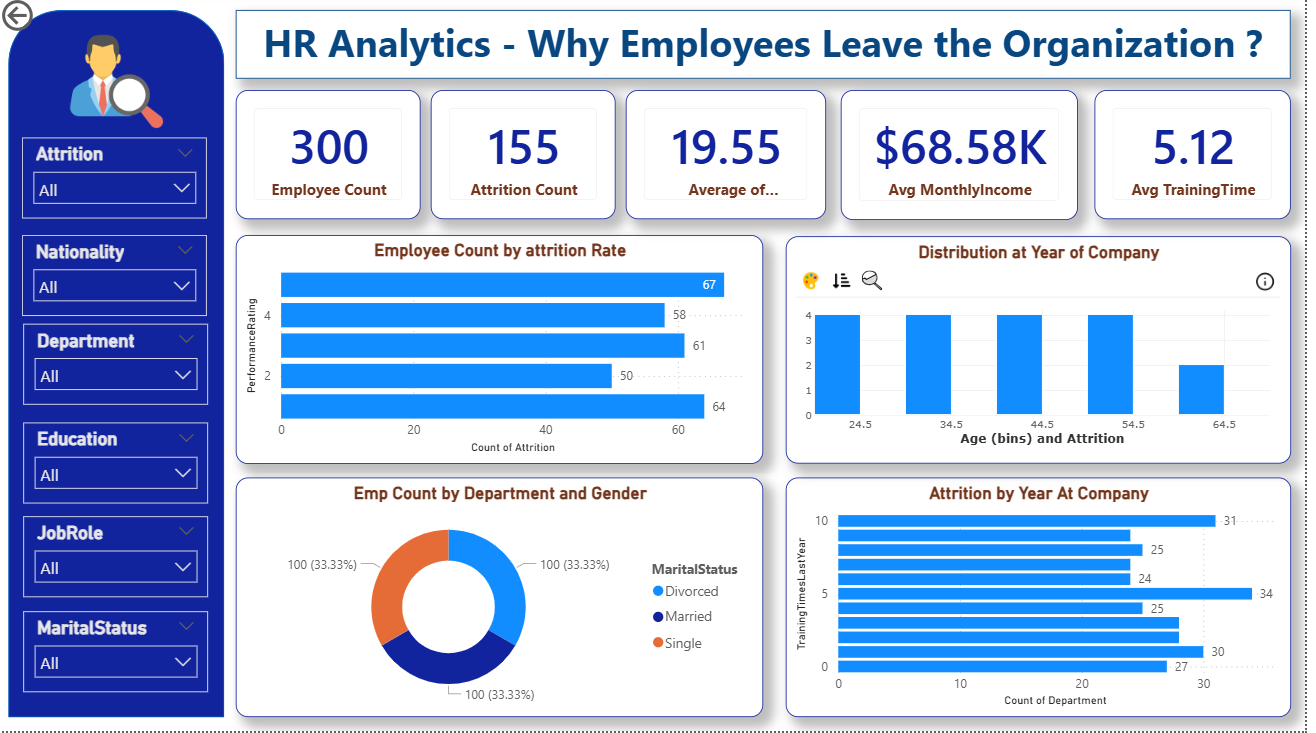

The dashboard page shown, as its layout file describes it:
{"tool":"powerbi","page":{"name":"Page2","canvas":[1280,720],"ordinal":1},"visuals":[{"type":"slicer","fields":{"Values":["hr_employee_data_with_nationality.Attrition"]},"box":[24.7,140,181.1,79.6],"z":0},{"type":"textbox","box":[10,0,280,280],"z":1000},{"type":"textbox","box":[233.6,14.7,1032.1,67.3],"z":2000},{"type":"shape","box":[11,14.7,211.6,692.1],"z":3000},{"type":"image","box":[67.3,29.3,99,110.1],"z":4000},{"type":"cardVisual","fields":{"Data":["CountNonNull(hr_employee_data_with_nationality.EmployeeID)"]},"box":[233.3,93.3,181.1,126.2],"z":5000},{"type":"clusteredBarChart","title":"Employee Count by attrition Rate","fields":{"Category":["hr_employee_data_with_nationality.PerformanceRating"],"Y":["CountNonNull(hr_employee_data_with_nationality.Attrition)"]},"box":[233.6,234.8,516,223.8],"z":6000},{"type":"barChart","title":"Attrition by Year At Company","fields":{"Y":["CountNonNull(hr_employee_data_with_nationality.Department)"],"Category":["hr_employee_data_with_nationality.TrainingTimesLastYear"]},"box":[771.6,472,494,234.8],"z":7000},{"type":"histogramF963F133BA02A0B35D286F09F80E9C78","title":"Distribution at Year of Company","fields":{"col_4":["hr_employee_data_with_nationality.Attrition"],"col_2":["hr_employee_data_with_nationality.Age (bins)"]},"box":[771.6,236,494,222.6],"z":8000},{"type":"donutChart","title":"Emp Count by Department and Gender","fields":{"Category":["hr_employee_data_with_nationality.MaritalStatus"],"Y":["CountNonNull(hr_employee_data_with_nationality.Attrition)"]},"box":[233.6,472,516,234.8],"z":11000},{"type":"cardVisual","fields":{"Data":["CountNonNull(hr_employee_data_with_nationality.Attrition)"]},"box":[424,93.3,181.1,126.2],"z":12000},{"type":"cardVisual","fields":{"Data":["Avg(hr_employee_data_with_nationality.YearsAtCompany)"]},"box":[614.8,93.3,196.2,126.2],"z":13000},{"type":"cardVisual","fields":{"Data":["Avg(hr_employee_data_with_nationality.MonthlyIncome)"]},"box":[825.4,92.9,232.3,127.2],"z":14000},{"type":"cardVisual","fields":{"Data":["Avg(hr_employee_data_with_nationality.TrainingTimesLastYear)"]},"box":[1073.1,93.3,192.1,126.2],"z":15000},{"type":"slicer","fields":{"Values":["hr_employee_data_with_nationality.Attrition"]},"box":[24.7,140,181.1,79.6],"z":16000},{"type":"slicer","fields":{"Values":["hr_employee_data_with_nationality.Nationality"]},"box":[24.7,234.6,181.1,79.6],"z":17000},{"type":"slicer","fields":{"Values":["hr_employee_data_with_nationality.Department"]},"box":[26.1,321.1,181.1,79.6],"z":18000},{"type":"actionButton","box":[0,0,100,40],"z":19000},{"type":"slicer","fields":{"Values":["hr_employee_data_with_nationality.Education"]},"box":[26.1,418.5,181.1,79.6],"z":20000},{"type":"slicer","fields":{"Values":["hr_employee_data_with_nationality.JobRole"]},"box":[26.1,510.5,181.1,79.6],"z":21000},{"type":"slicer","fields":{"Values":["hr_employee_data_with_nationality.MaritalStatus"]},"box":[26.1,602.4,181.1,79.6],"z":22000}]}

Visuals, with their boxes in screenshot pixels (x1, y1, x2, y2), scaled from the page's 1280x720 canvas onto the 1316x733 screenshot:
slicer - hr_employee_data_with_nationality.Attrition: [x1=25, y1=143, x2=212, y2=224]
textbox: [x1=10, y1=0, x2=298, y2=285]
textbox: [x1=240, y1=15, x2=1301, y2=83]
shape: [x1=11, y1=15, x2=229, y2=720]
image: [x1=69, y1=30, x2=171, y2=142]
cardVisual - CountNonNull(hr_employee_data_with_nationality.EmployeeID): [x1=240, y1=95, x2=426, y2=223]
"Employee Count by attrition Rate" clusteredBarChart: [x1=240, y1=239, x2=771, y2=467]
"Attrition by Year At Company" barChart: [x1=793, y1=481, x2=1301, y2=720]
"Distribution at Year of Company" histogramF963F133BA02A0B35D286F09F80E9C78: [x1=793, y1=240, x2=1301, y2=467]
"Emp Count by Department and Gender" donutChart: [x1=240, y1=481, x2=771, y2=720]
cardVisual - CountNonNull(hr_employee_data_with_nationality.Attrition): [x1=436, y1=95, x2=622, y2=223]
cardVisual - Avg(hr_employee_data_with_nationality.YearsAtCompany): [x1=632, y1=95, x2=834, y2=223]
cardVisual - Avg(hr_employee_data_with_nationality.MonthlyIncome): [x1=849, y1=95, x2=1087, y2=224]
cardVisual - Avg(hr_employee_data_with_nationality.TrainingTimesLastYear): [x1=1103, y1=95, x2=1301, y2=223]
slicer - hr_employee_data_with_nationality.Attrition: [x1=25, y1=143, x2=212, y2=224]
slicer - hr_employee_data_with_nationality.Nationality: [x1=25, y1=239, x2=212, y2=320]
slicer - hr_employee_data_with_nationality.Department: [x1=27, y1=327, x2=213, y2=408]
actionButton: [x1=0, y1=0, x2=103, y2=41]
slicer - hr_employee_data_with_nationality.Education: [x1=27, y1=426, x2=213, y2=507]
slicer - hr_employee_data_with_nationality.JobRole: [x1=27, y1=520, x2=213, y2=601]
slicer - hr_employee_data_with_nationality.MaritalStatus: [x1=27, y1=613, x2=213, y2=694]
